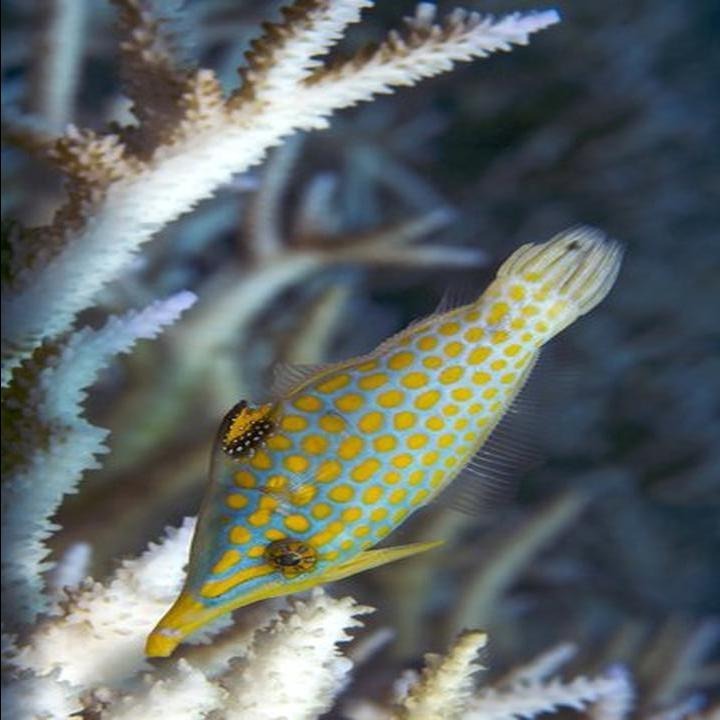Bleached disease: (1, 12, 557, 370), (11, 429, 597, 717)
